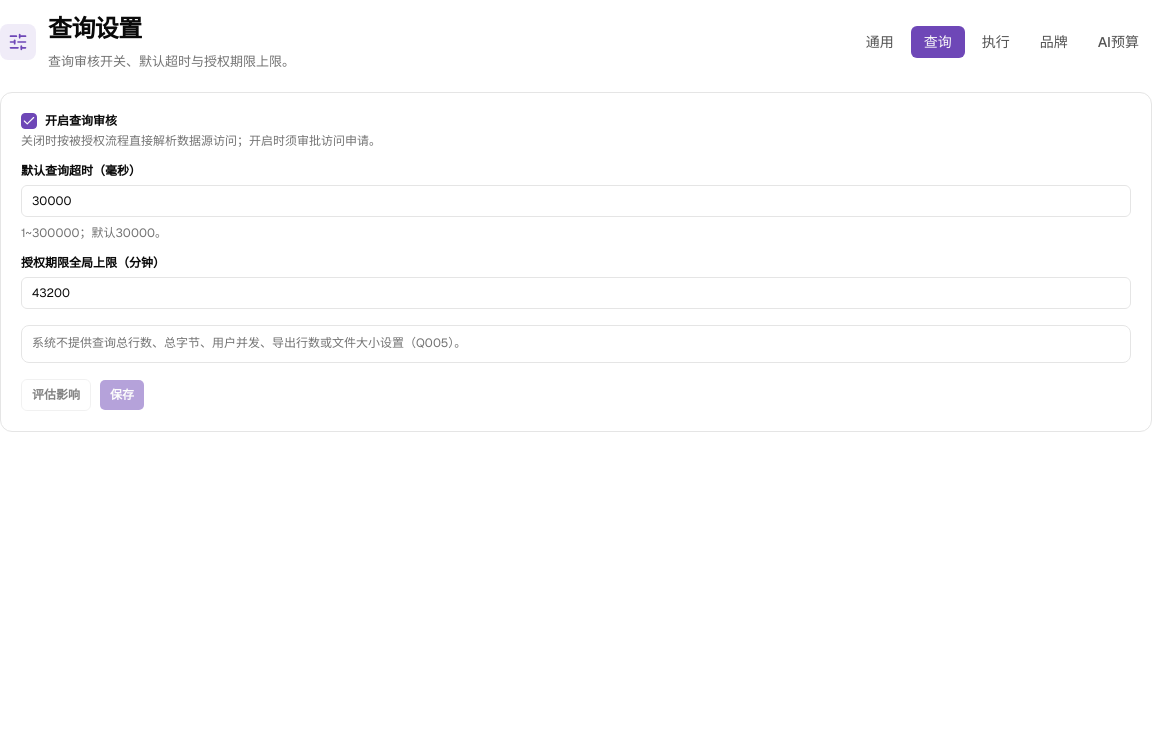
settings namespaces › saving a high-impact toggle directly succeeds via the auto assess retry (§18.47)
Click the checkbox with test id "settings-query-approval": (29, 121) [21,113,37,129]
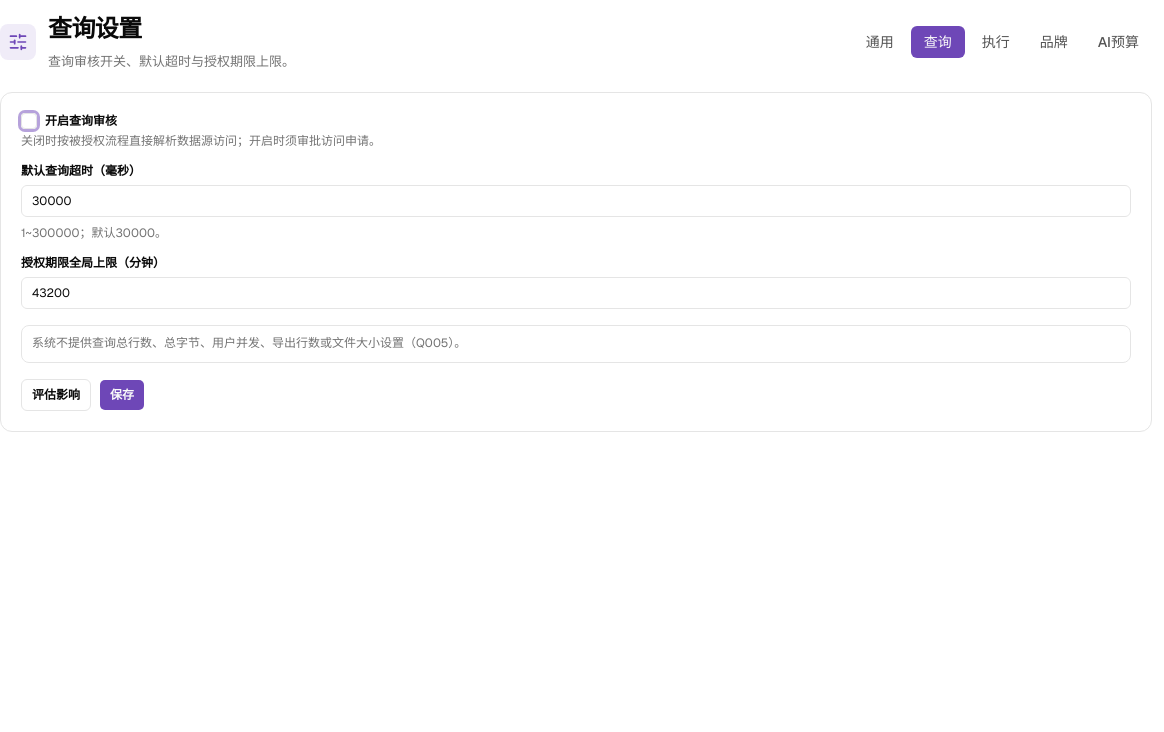
Click the button with test id "settings-save": (122, 395) [99,379,145,411]
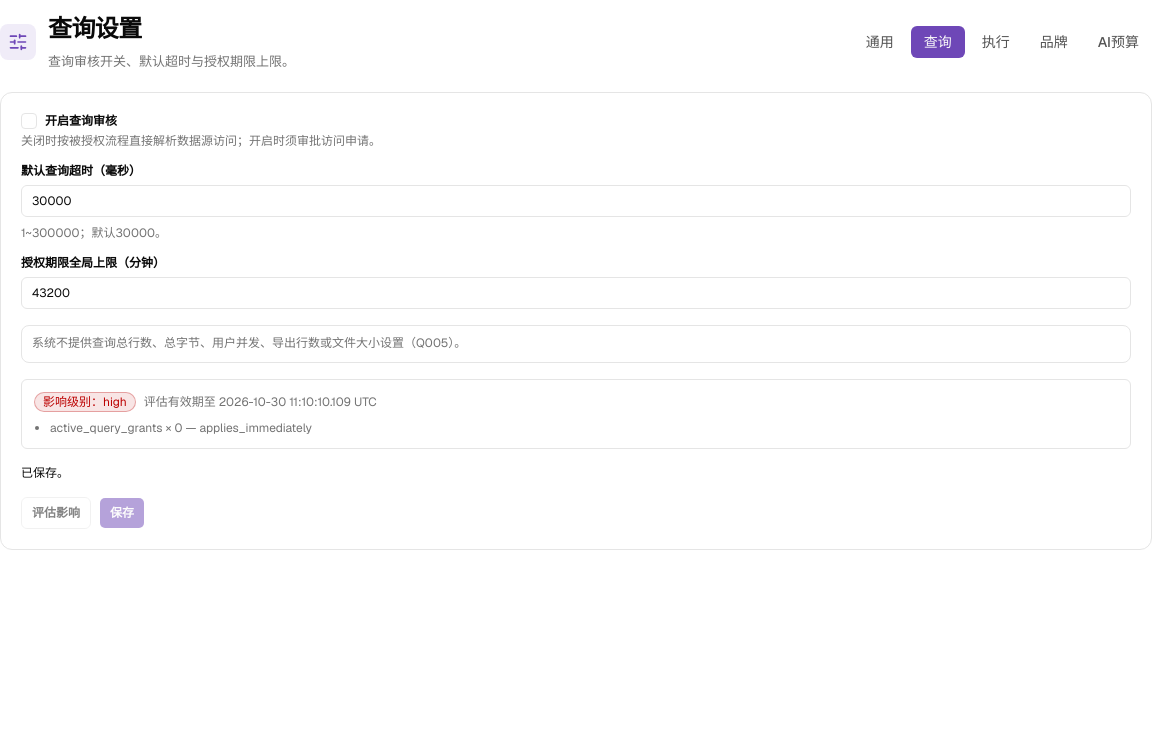
Expected: the text "已保存。" is shown, [21,465,69,481]
Expected: the element with test id "settings-assessment" is shown, [21,379,1131,449]
